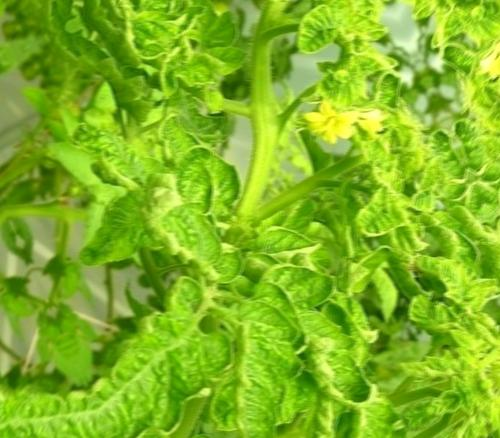Tomato leaf yellow virus: (115, 109, 281, 306), (66, 278, 256, 438), (238, 244, 394, 437), (297, 111, 440, 282), (183, 296, 338, 438), (55, 176, 182, 297), (297, 17, 409, 122), (402, 233, 499, 343), (110, 0, 204, 72), (247, 205, 324, 286), (273, 0, 351, 71), (241, 0, 328, 20)
